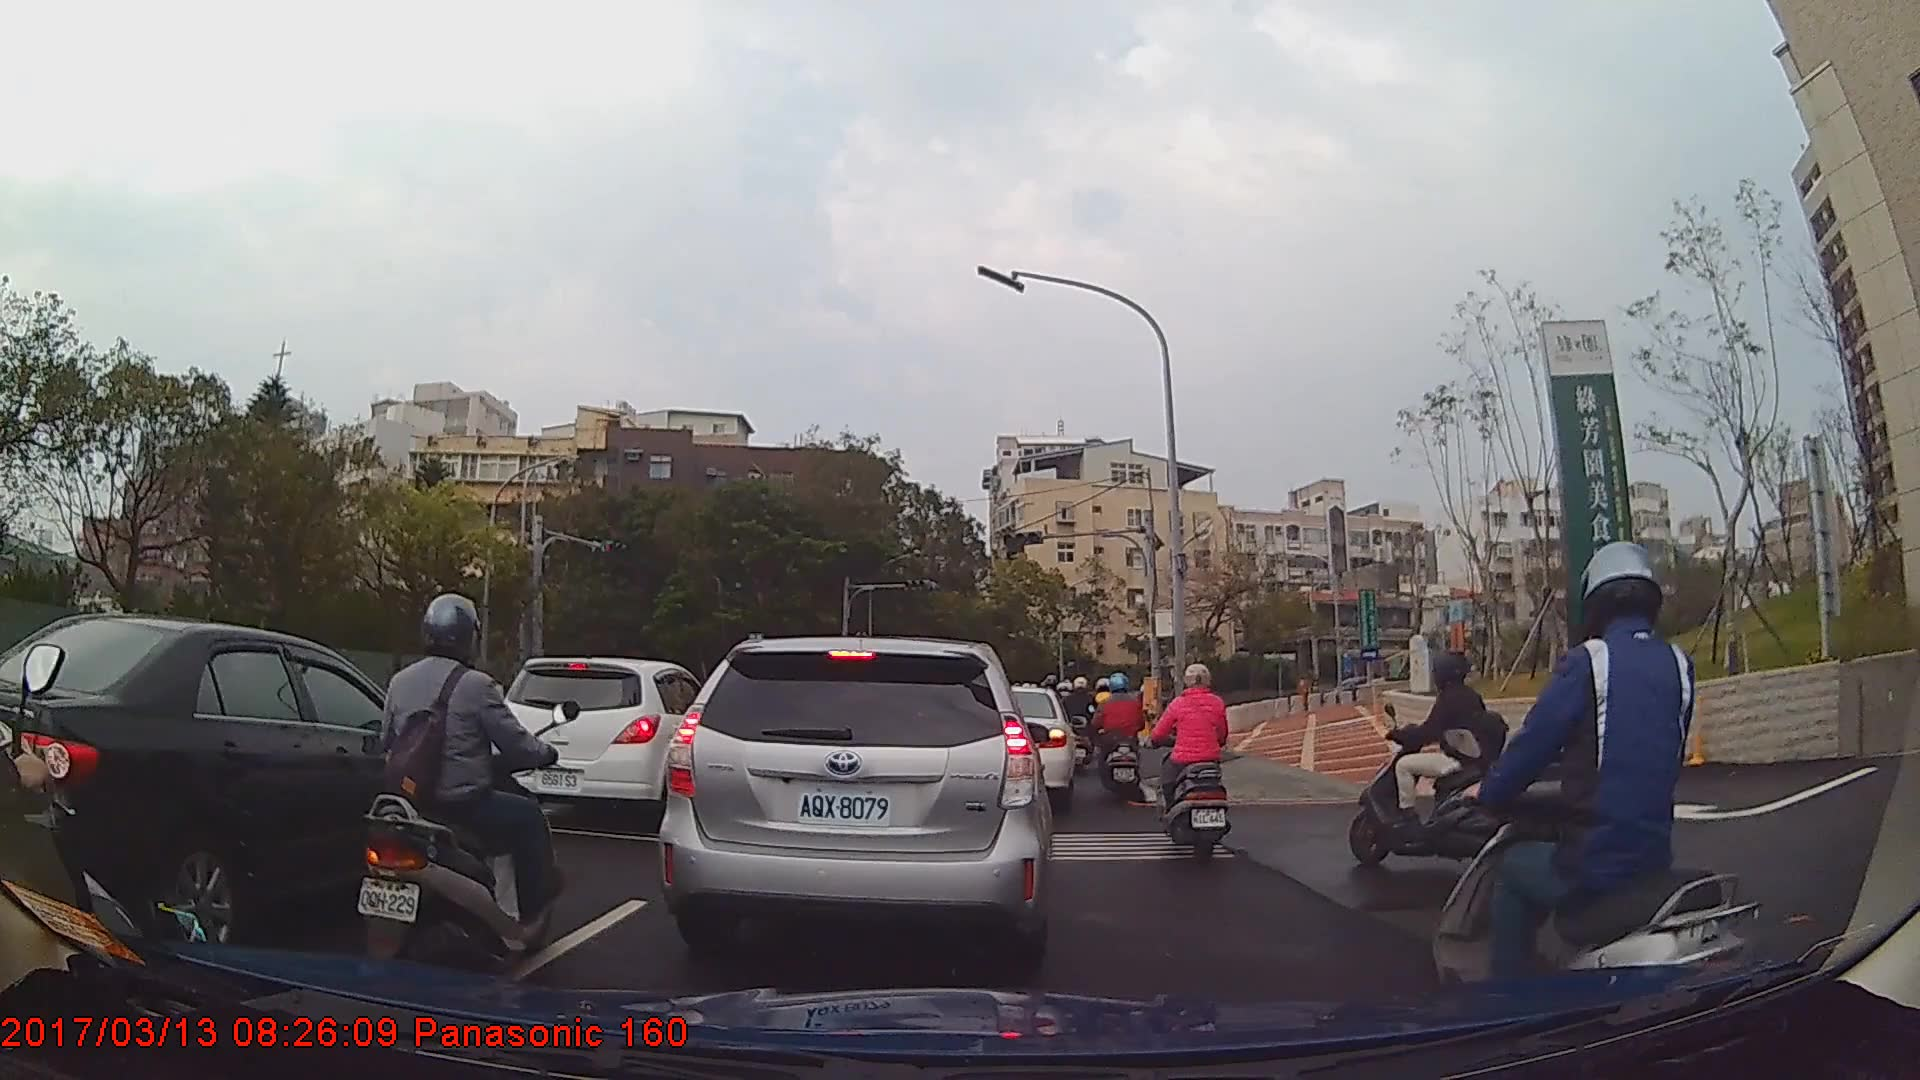rider: (1427, 540, 1779, 1069), (355, 591, 563, 990), (1348, 653, 1538, 871), (1157, 660, 1231, 863), (1092, 669, 1151, 809), (1067, 674, 1105, 775)
vehicle: (0, 611, 486, 959), (657, 635, 1051, 970), (484, 656, 720, 830), (963, 686, 1077, 808)
